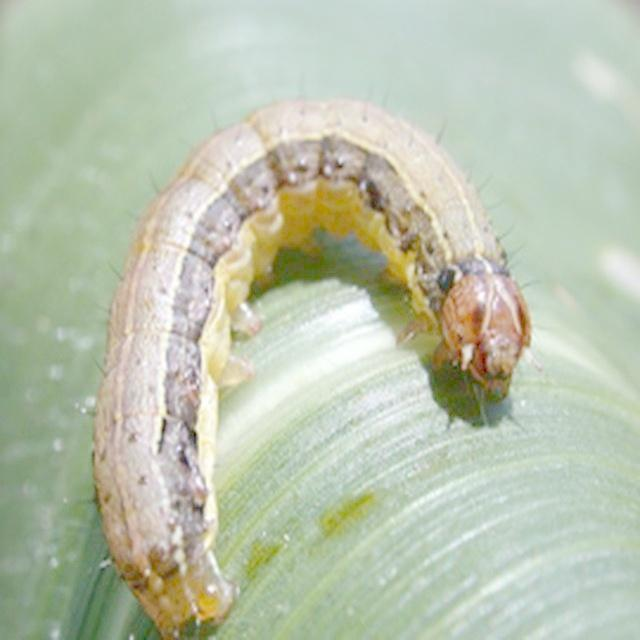Plaga: (93, 85, 536, 640)
